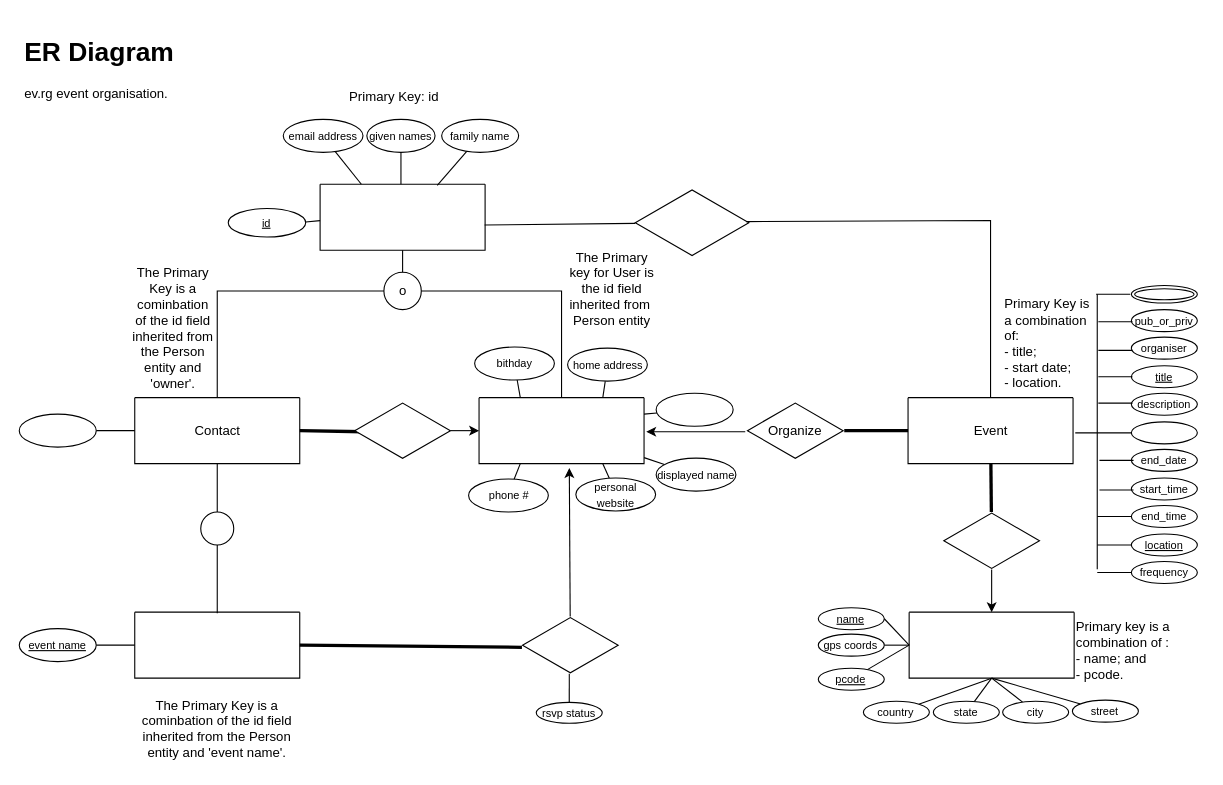
This 1223x785 diagram has some shape labels left out. The centre of each missing label's shape, as x and y in pixels:
Are Held At: pixel 991 540
category: pixel 1163 293
Direct Registration: pixel 691 222
Invitee: pixel 217 644
Invites: pixel 569 644
is a: pixel 217 528
Maintains: pixel 402 430
owner: pixel 57 430
password: pixel 694 409
Person: pixel 402 216
Place: pixel 991 644
start_date: pixel 1163 432
User: pixel 561 430
